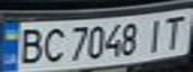0: (87, 22, 109, 61)
4: (103, 20, 127, 58)
7: (66, 23, 90, 62)
8: (118, 19, 142, 57)
B: (12, 25, 48, 65)
C: (36, 25, 69, 64)
I: (139, 16, 169, 53)
T: (157, 11, 190, 51)
